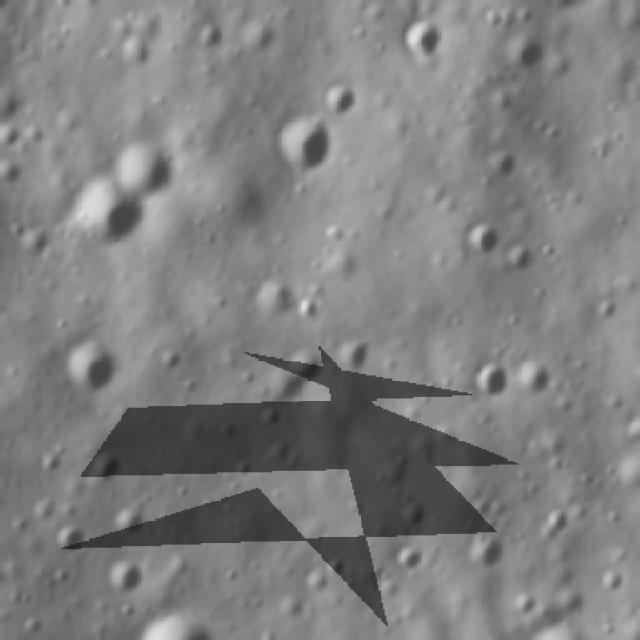crater: (67, 182, 141, 260), (270, 116, 347, 182), (263, 339, 332, 410), (118, 136, 182, 199), (61, 336, 124, 398), (398, 21, 449, 65), (328, 332, 372, 382), (511, 352, 555, 401), (462, 213, 504, 264), (250, 277, 296, 323), (104, 504, 150, 547), (89, 450, 131, 496), (468, 358, 510, 404), (313, 84, 361, 124), (103, 554, 143, 601), (238, 14, 284, 54), (464, 532, 504, 576), (504, 33, 544, 76), (484, 143, 519, 185), (51, 520, 85, 563), (499, 242, 536, 281), (16, 225, 52, 262), (288, 294, 323, 332), (539, 502, 573, 541), (389, 541, 426, 576), (271, 589, 306, 625), (119, 40, 156, 74), (194, 22, 231, 55), (28, 448, 68, 478), (505, 588, 540, 621), (596, 568, 626, 598), (322, 554, 352, 581), (0, 120, 22, 152), (157, 351, 185, 372), (20, 617, 43, 638)
